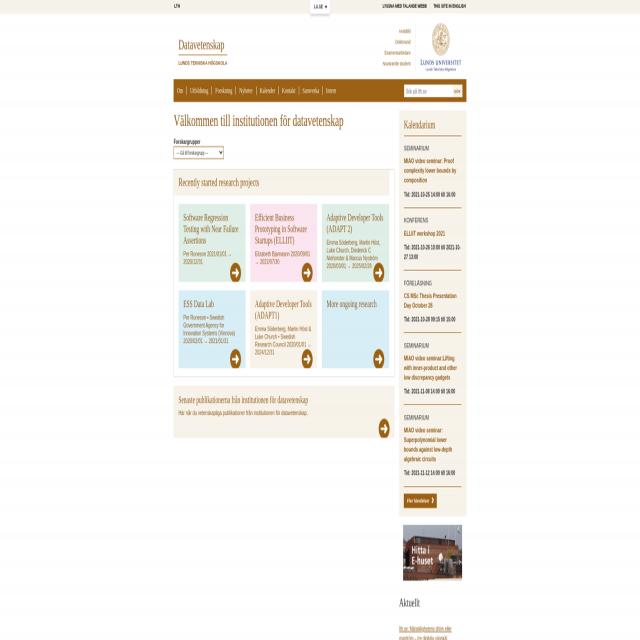button: (174, 386, 394, 438), (178, 204, 246, 282), (250, 204, 318, 282), (178, 290, 246, 368), (250, 290, 318, 368), (322, 203, 389, 281), (322, 290, 389, 368), (403, 524, 462, 580), (421, 19, 462, 78), (404, 494, 437, 509), (308, 0, 330, 14), (453, 85, 462, 97)
field: (174, 147, 224, 159), (404, 85, 452, 97)
